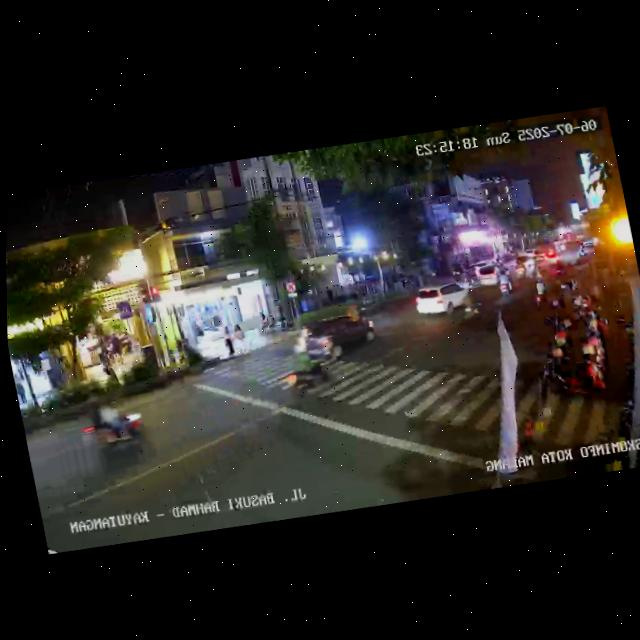car: (298, 306, 379, 363), (409, 277, 475, 324), (464, 258, 503, 290)
motorcycle: (272, 328, 344, 402), (80, 394, 151, 464), (455, 285, 484, 323), (529, 274, 550, 307), (494, 267, 515, 299)
person: (231, 320, 249, 355), (221, 326, 236, 358), (107, 330, 123, 360), (100, 349, 114, 381), (14, 378, 28, 406)
